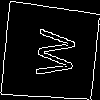W: (25, 27, 76, 79)
